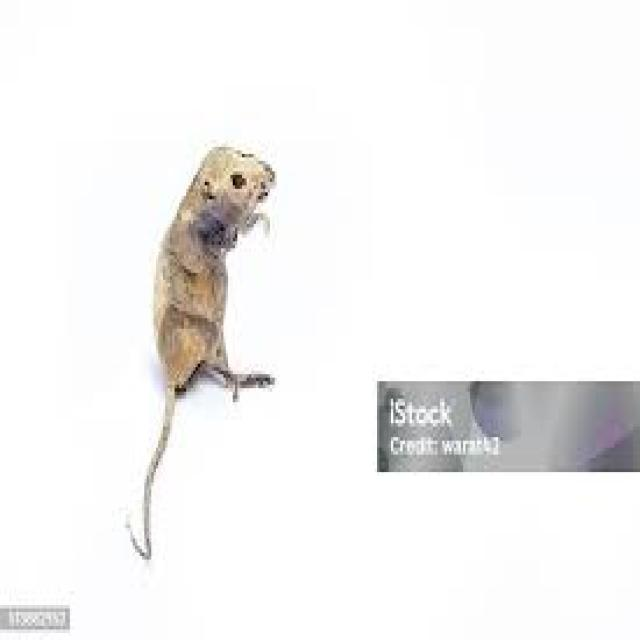rat: (123, 140, 277, 559)
